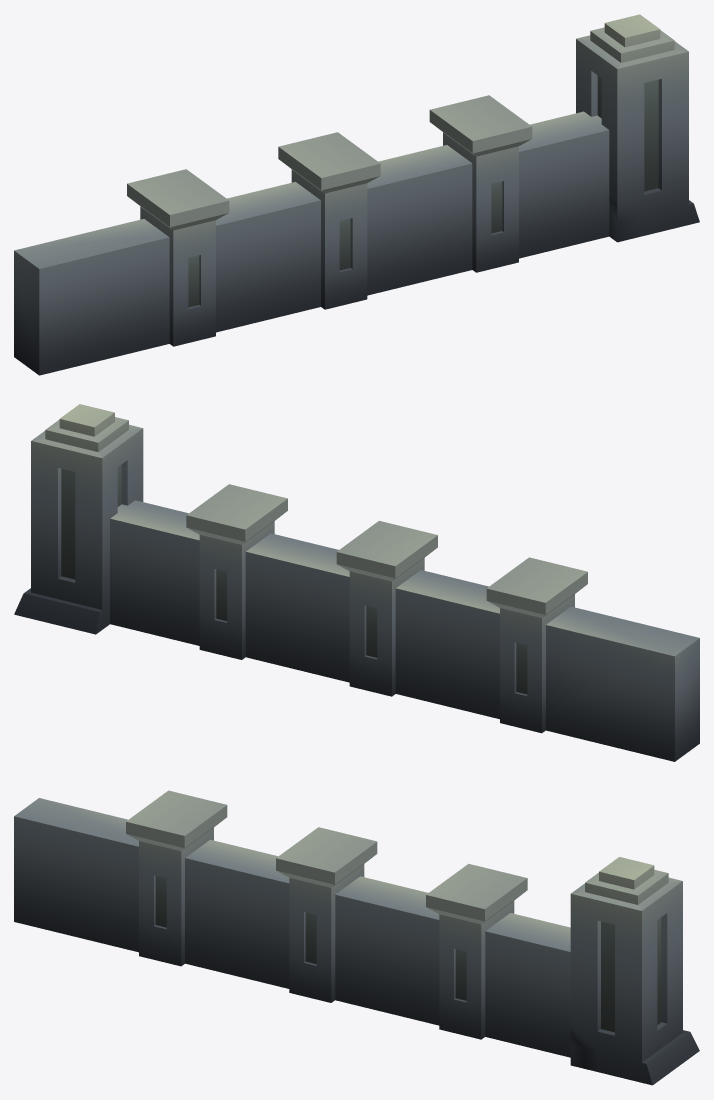
The model's file is Present_wall_01.fbx.
3 views of the same model, one above another, from view 1: azimuth 30°, elevation 25°; view 2: azimuth 150°, elevation 25°; view 3: azimuth 330°, elevation 25° (orthographic).
Visible parts, largest first — view 1: Present_wall_01; view 2: Present_wall_01; view 3: Present_wall_01.
Part boxes in pixels (bbox=[...]): Present_wall_01: bbox=[14, 14, 699, 375]; Present_wall_01: bbox=[14, 404, 699, 761]; Present_wall_01: bbox=[14, 790, 699, 1085].
Size of the model in its own units: 215 by 60.7 by 27.76.
1 material, 1 textured.
